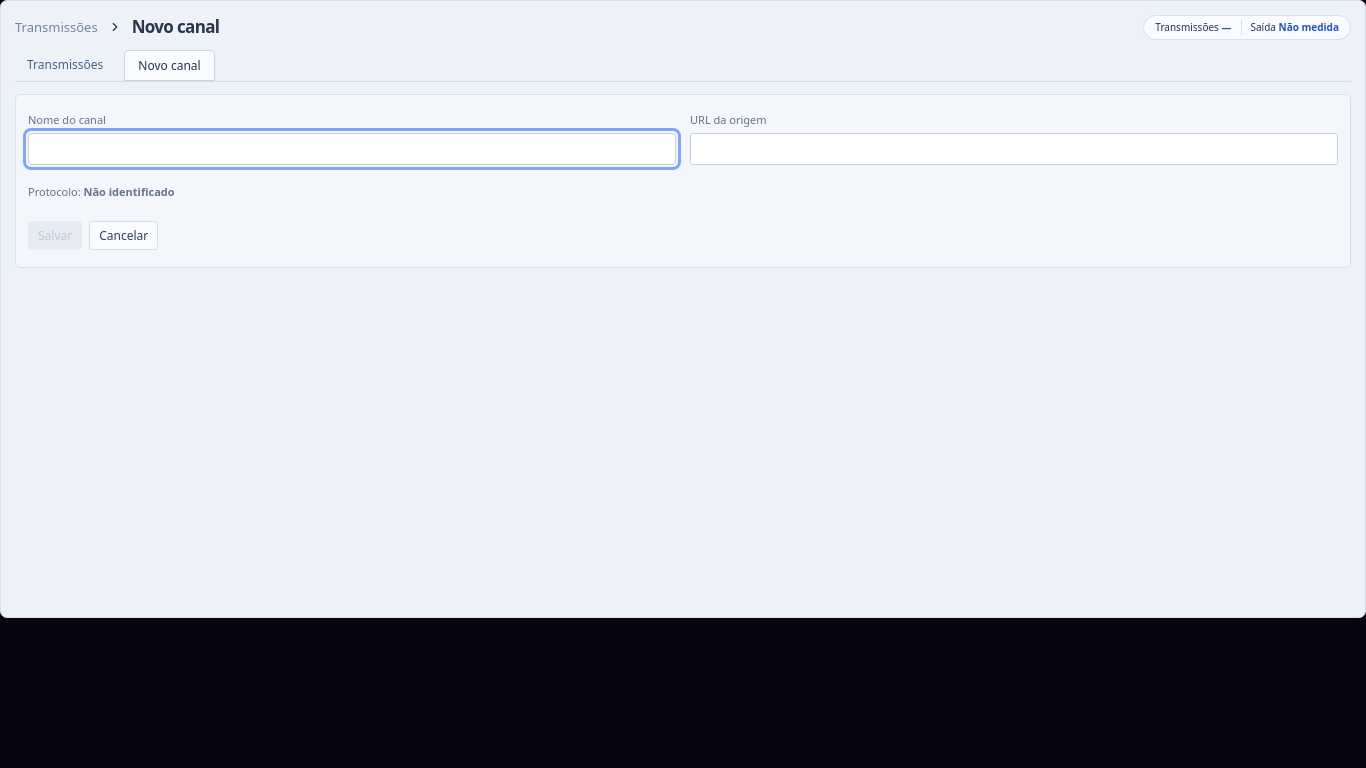
Test: requires explicit UDP interface and local IP before saving
In the field labelled "Nome do canal": (352, 149) [28,133,676,165], type "UDP sintético"
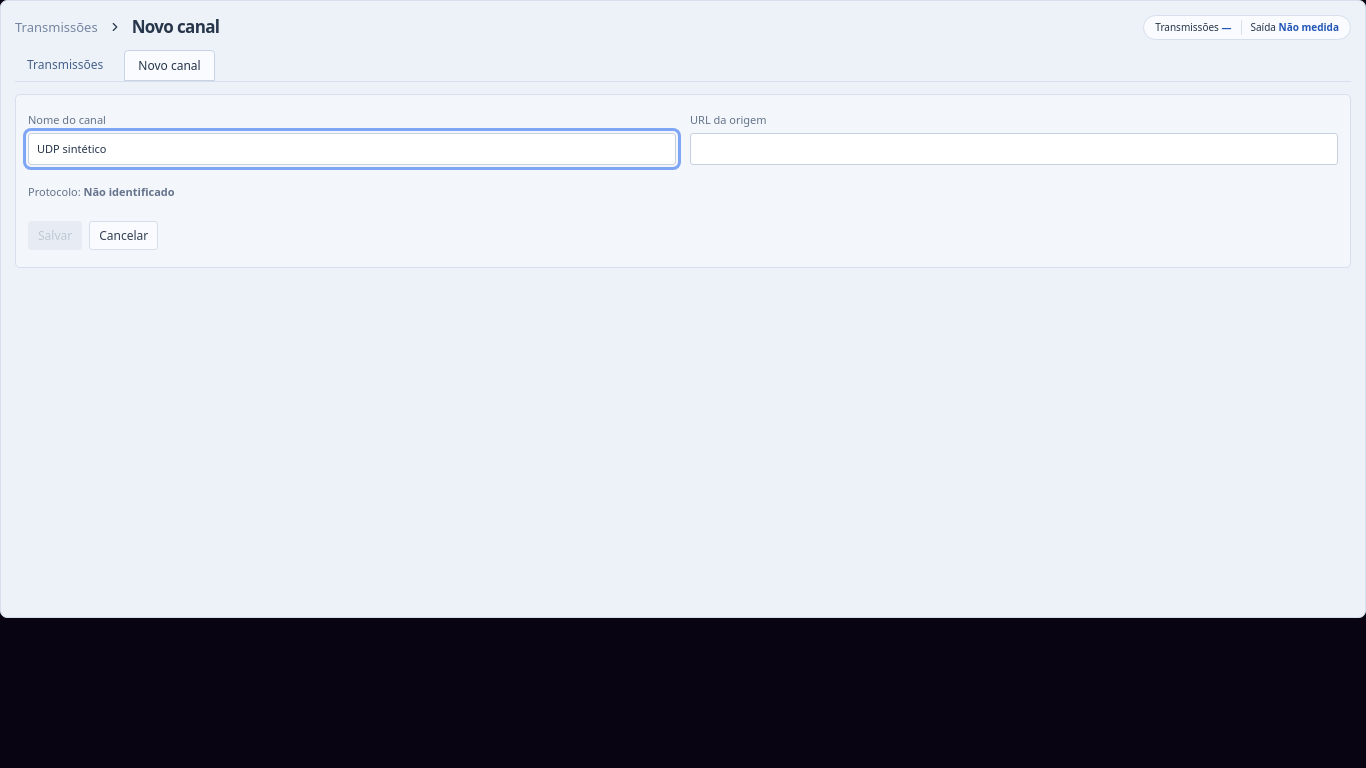
In the field labelled "URL da origem": (1014, 149) [690,133,1338,165], type "udp://239.77.0.1:12000"
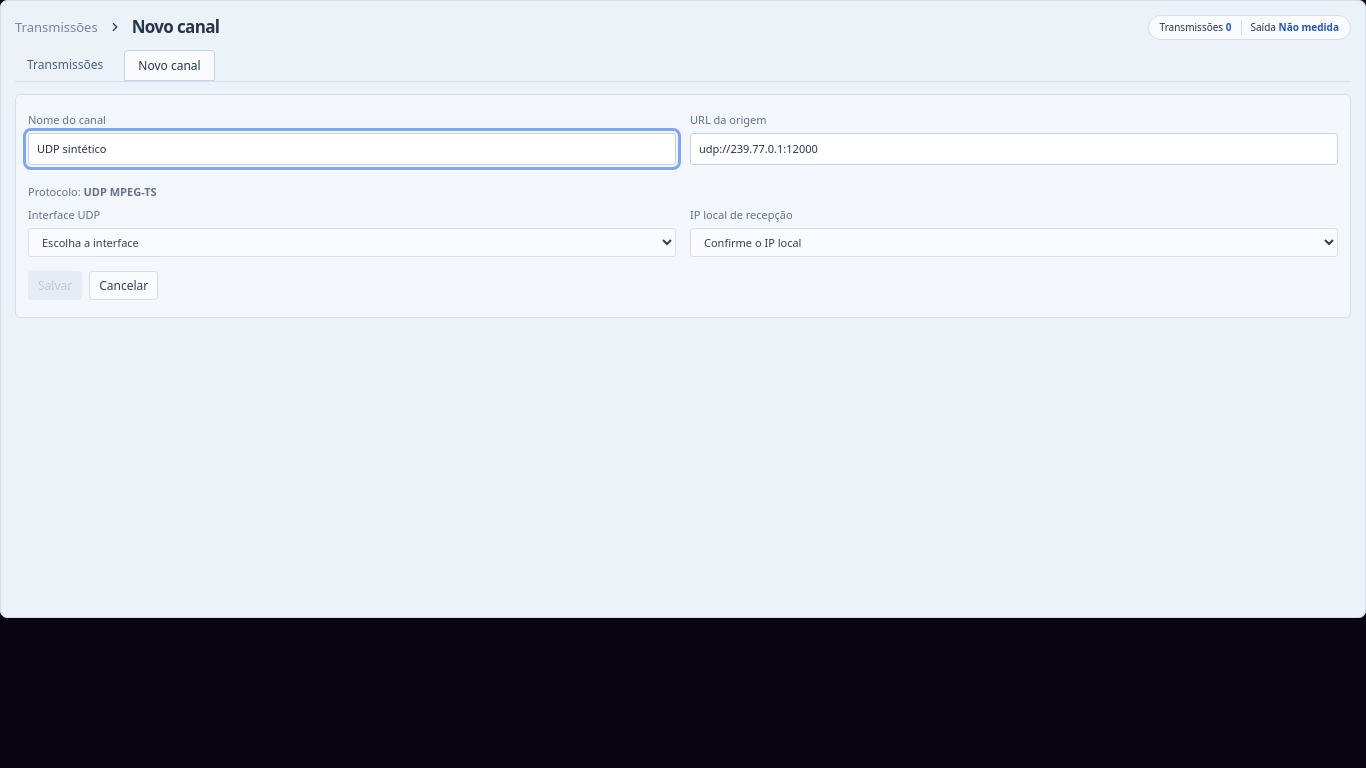
Expected: the button "Salvar" is disabled, [28,271,82,300]
Expected: the dropdown labelled "Interface UDP" shows "Escolha a interface"
Expected: the dropdown labelled "IP local de recepção" shows "Confirme o IP local", [690,228,1338,257]
Select "eth-lab" in the dropdown labelled "Interface UDP": (352, 242) [28,228,676,257]
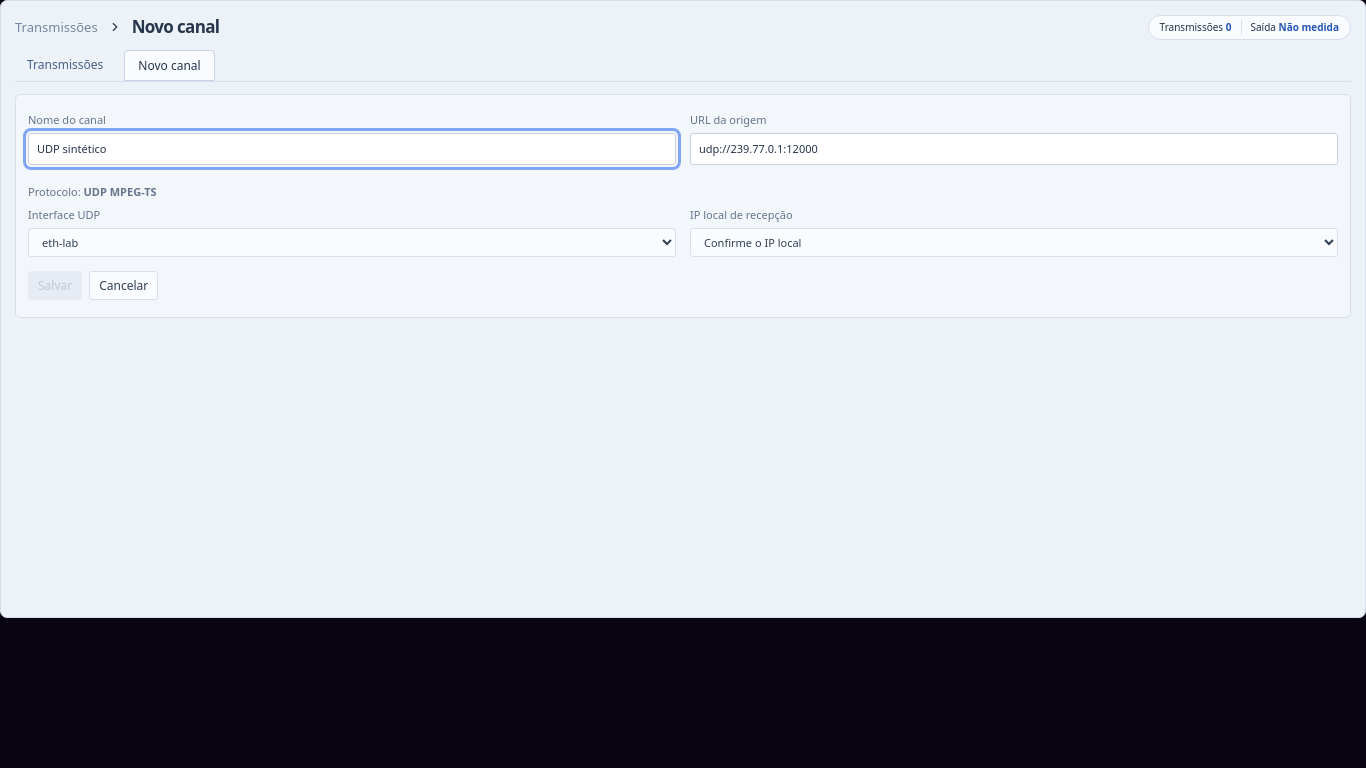
Select "192.0.2.10" in the dropdown labelled "IP local de recepção": (1014, 242) [690,228,1338,257]
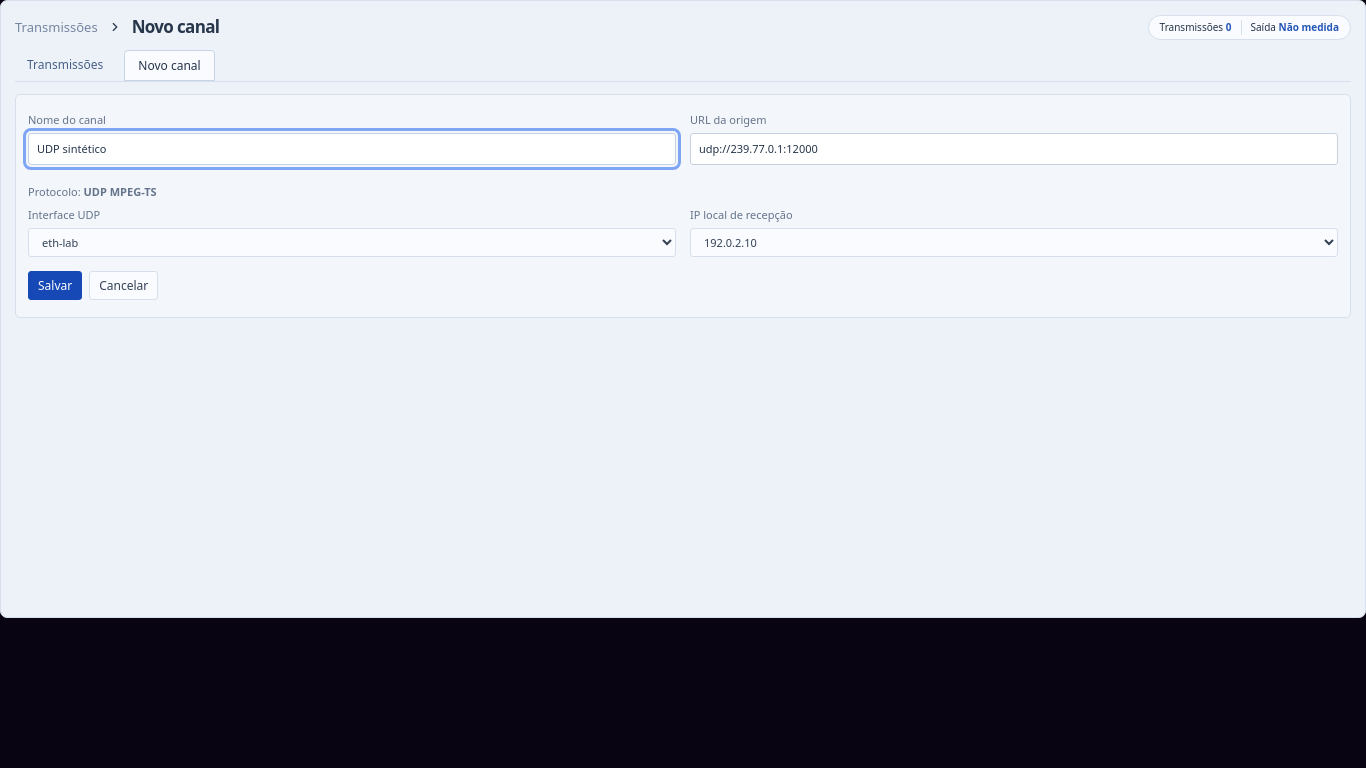
Expected: the button "Salvar" is enabled, [28,271,82,300]
